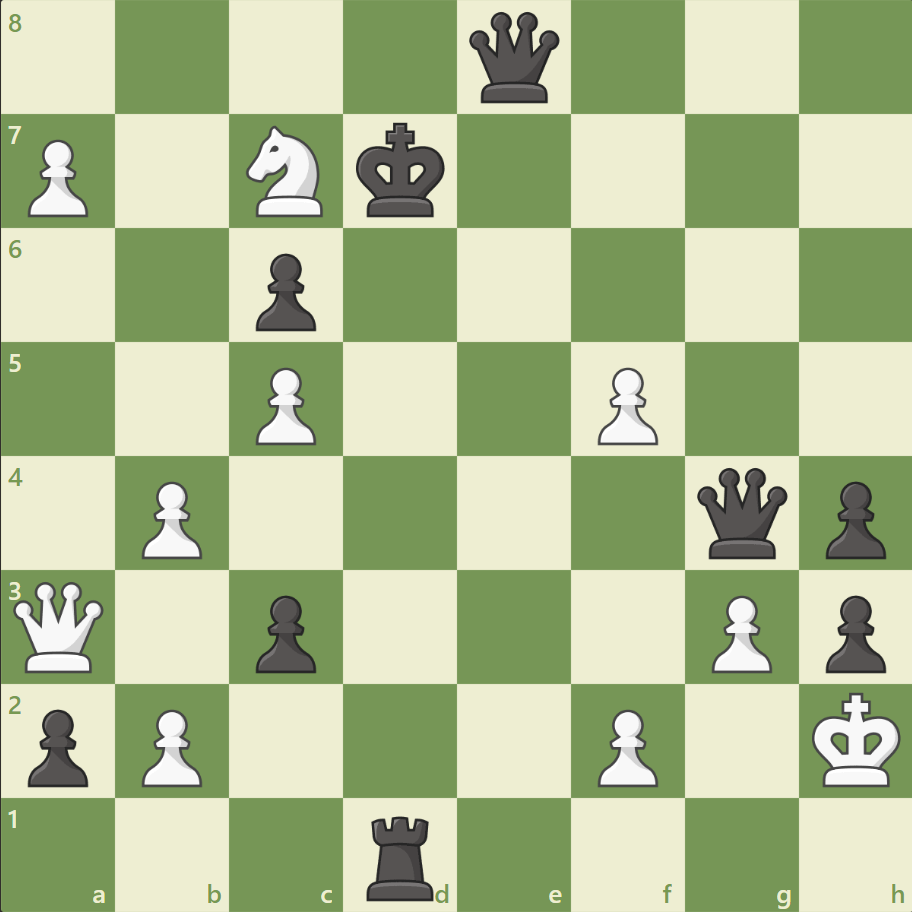K: (806, 685, 906, 793)
N: (238, 121, 335, 223)
P: (20, 132, 95, 223), (247, 359, 322, 450), (133, 473, 208, 564), (701, 586, 776, 677), (133, 700, 208, 791), (588, 359, 662, 450), (588, 700, 662, 791)
Q: (10, 576, 109, 676)
k: (351, 117, 451, 225)
p: (247, 246, 322, 337), (247, 586, 322, 677), (20, 700, 95, 791), (815, 473, 889, 564), (815, 586, 889, 677)
q: (464, 9, 563, 108), (691, 463, 790, 562)
r: (360, 806, 442, 904)
